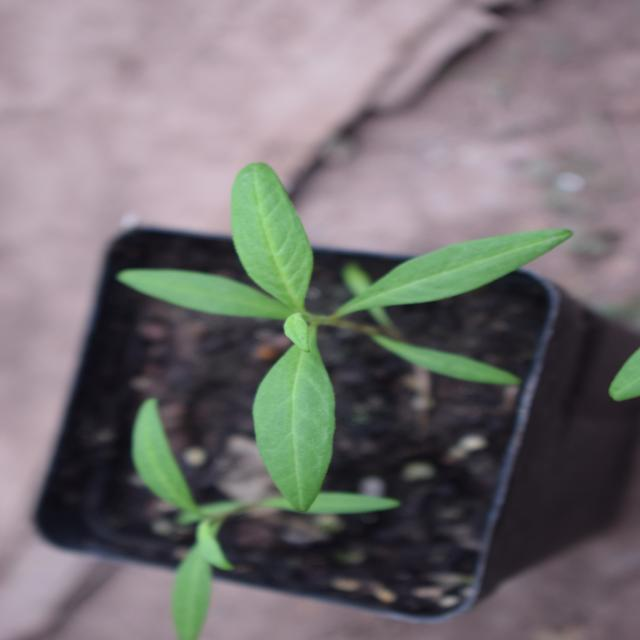white_smart_weed: (130, 106, 469, 578)
